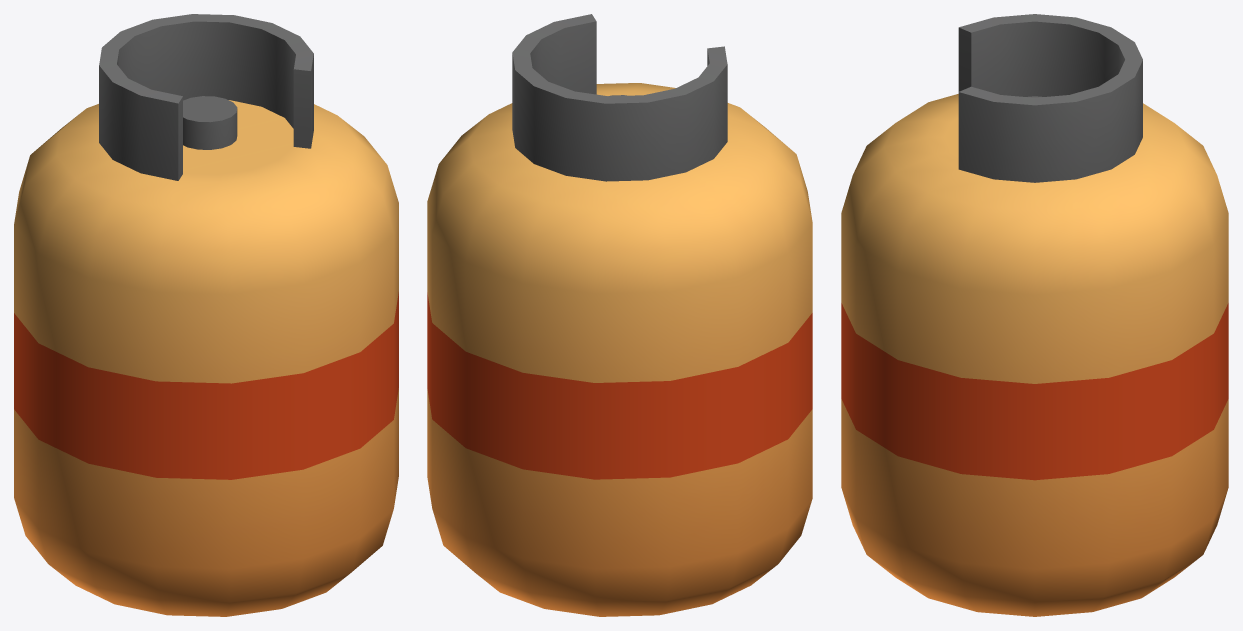
Rendered from GasCylinder02.fbx.
3 views of the same model, side by side, from view 1: azimuth 30°, elevation 25°; view 2: azimuth 150°, elevation 25°; view 3: azimuth 270°, elevation 25° (orthographic).
Visible parts, largest first — view 1: GasCylinder02; view 2: GasCylinder02; view 3: GasCylinder02.
Part boxes in pixels (x1,y1,x2,y2): GasCylinder02: (14,14,398,616); GasCylinder02: (427,14,812,616); GasCylinder02: (841,14,1228,616).
Bounding box in the file's own units: 0.6557 × 0.6557 × 0.9407.
